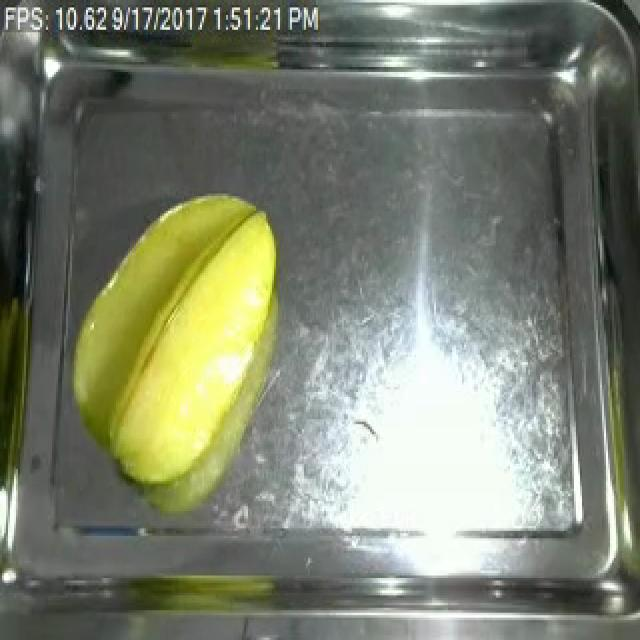fruit: (54, 179, 288, 501)
